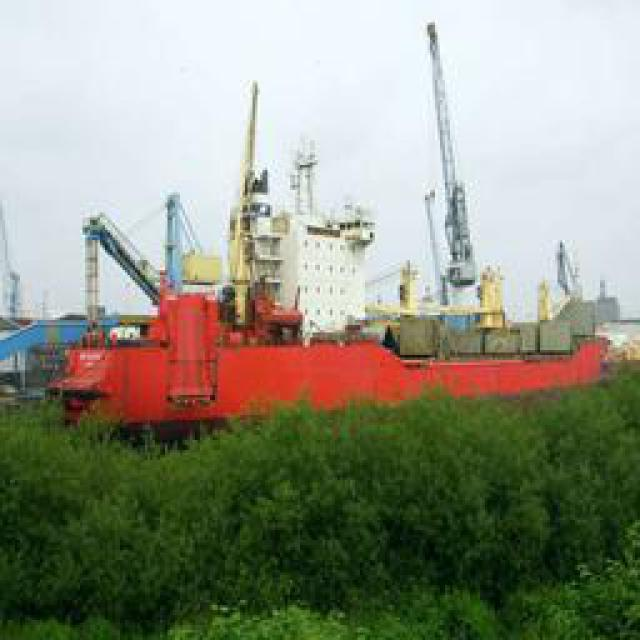Ship: (38, 30, 616, 443)
